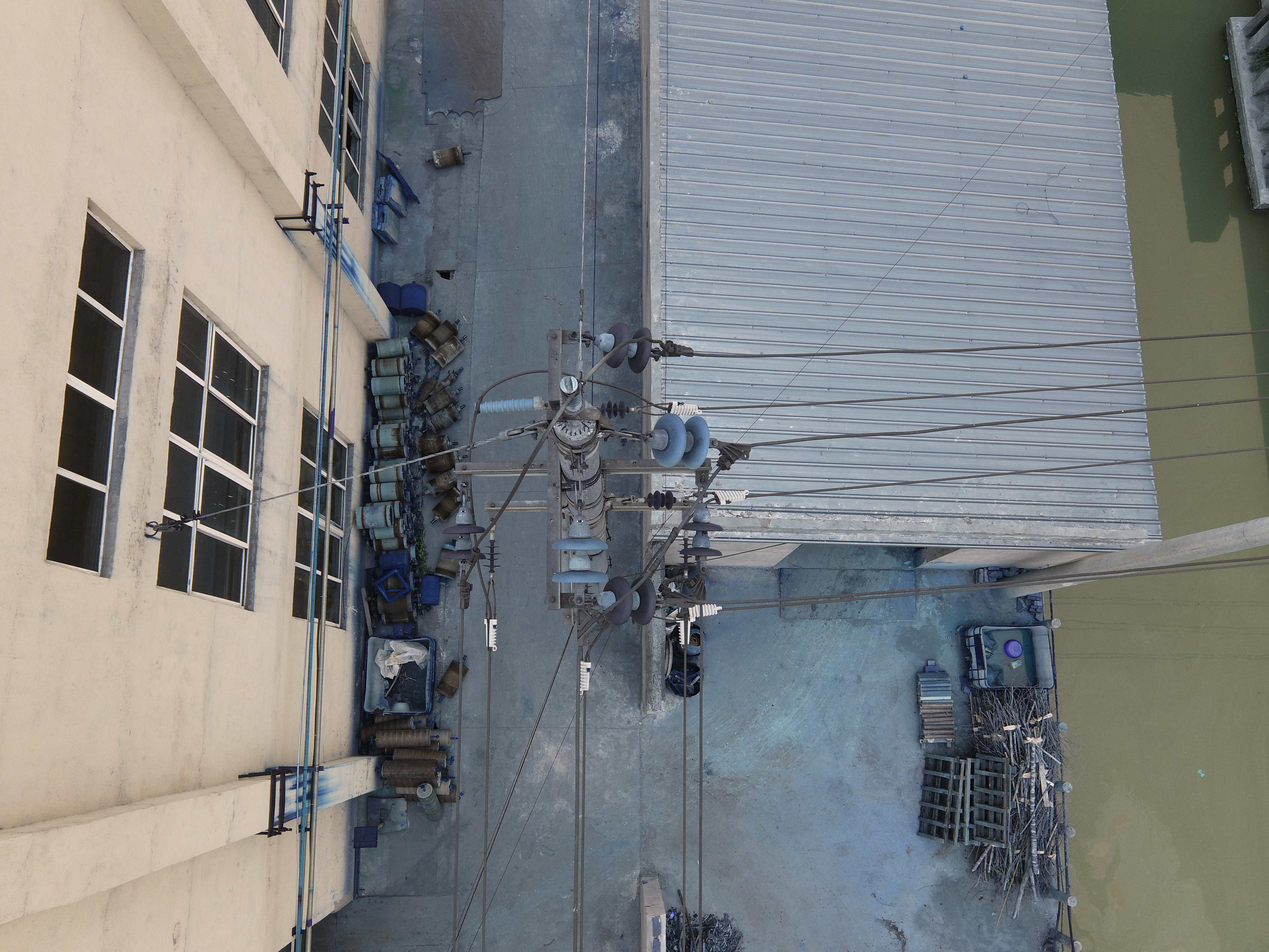severe_soiling_no_discharge_whole: (549, 514, 610, 586), (642, 409, 711, 470), (471, 391, 547, 415), (553, 371, 587, 418)
